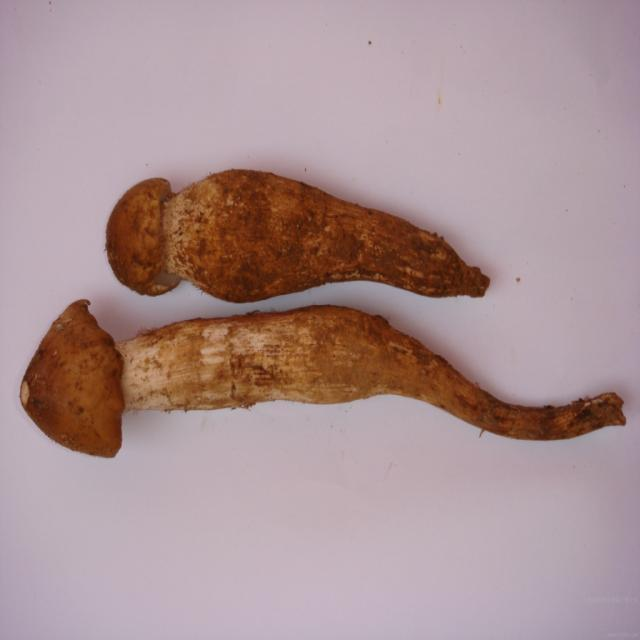Collybia albuminosa: (20, 293, 625, 461), (107, 170, 490, 303)
